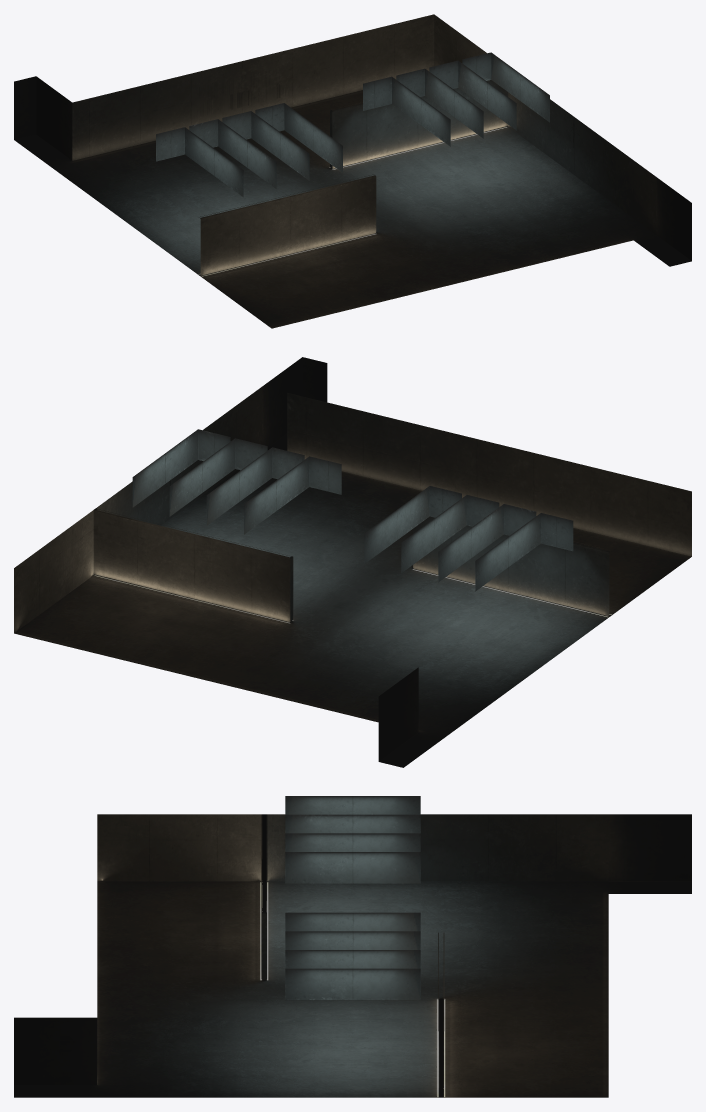
The model's file is 6194a635-vr_art_gallery.glb.
The picture shows the model from 3 angles, top to bottom: view 1: azimuth 30°, elevation 25°; view 2: azimuth 150°, elevation 25°; view 3: azimuth 270°, elevation 25°; orthographic projection. The views are drawn at different scales.
Parts seen in each view (by area): view 1: Cube; view 2: Cube; view 3: Cube.
Part boxes in pixels (bbox=[...]): Cube: bbox=[14, 14, 691, 328]; Cube: bbox=[14, 357, 691, 767]; Cube: bbox=[14, 796, 691, 1097].
Size of the model in its own units: 19.02 by 4.1 by 25.2.
4 materials, 4 textured.
